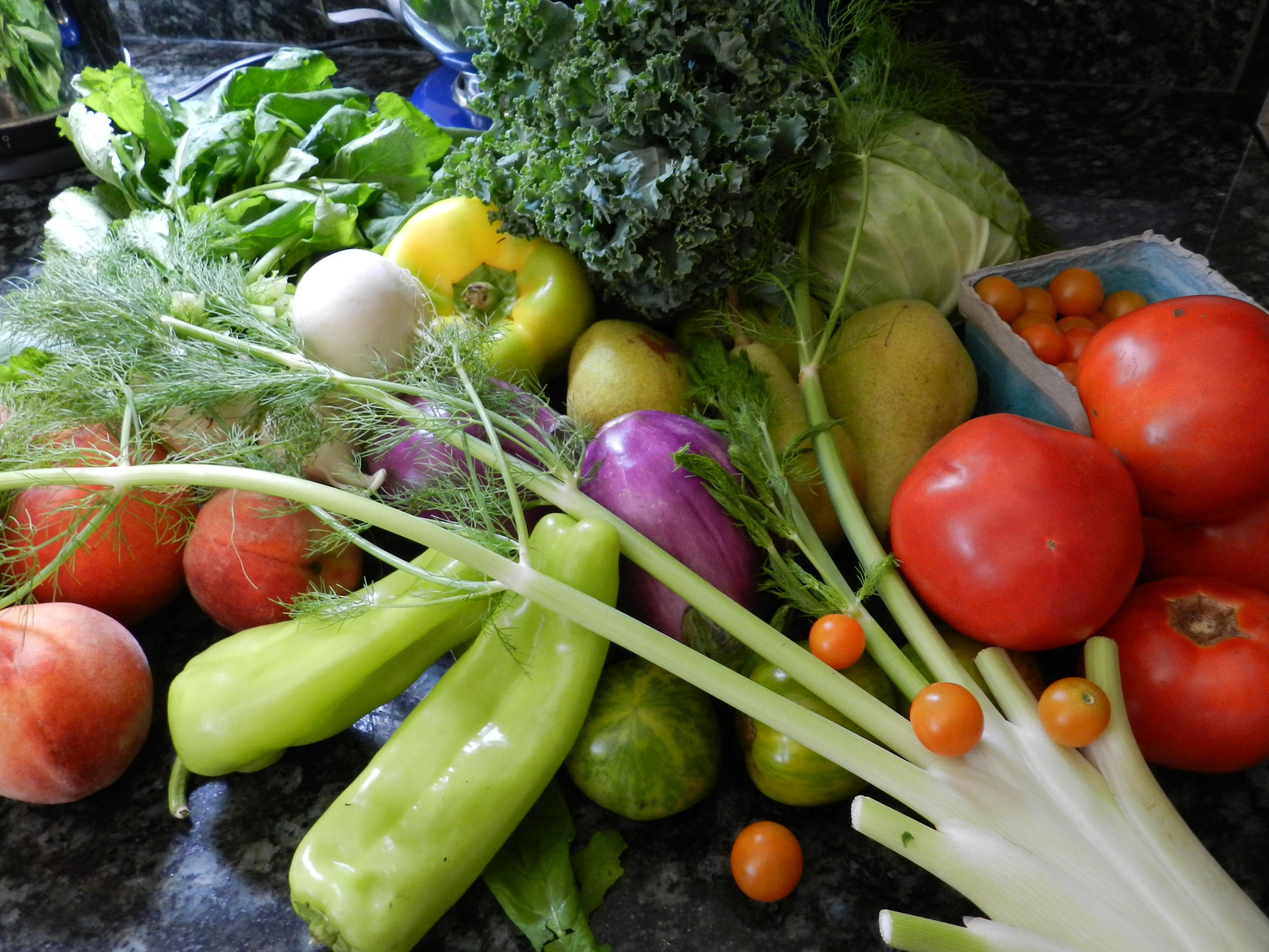cabbage: (750, 92, 1126, 362)
capsicum: (398, 169, 593, 395)
chillies: (125, 456, 697, 947)
spinach: (0, 18, 461, 278)
tomato: (895, 281, 1269, 817)
